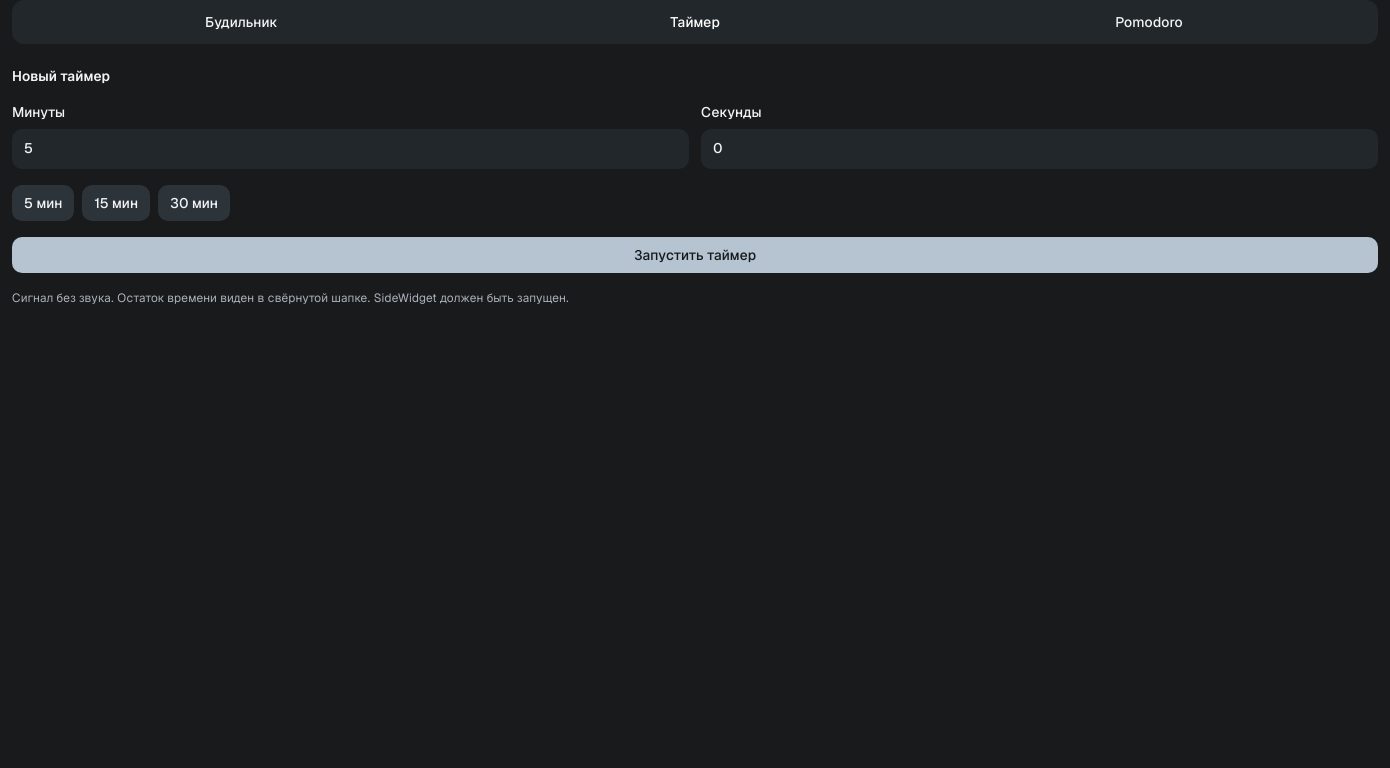
Test: retains the running collection when storage rejects a new timer
Click the button "Запустить таймер". click: (695, 255)
box: [12,237,1378,273]
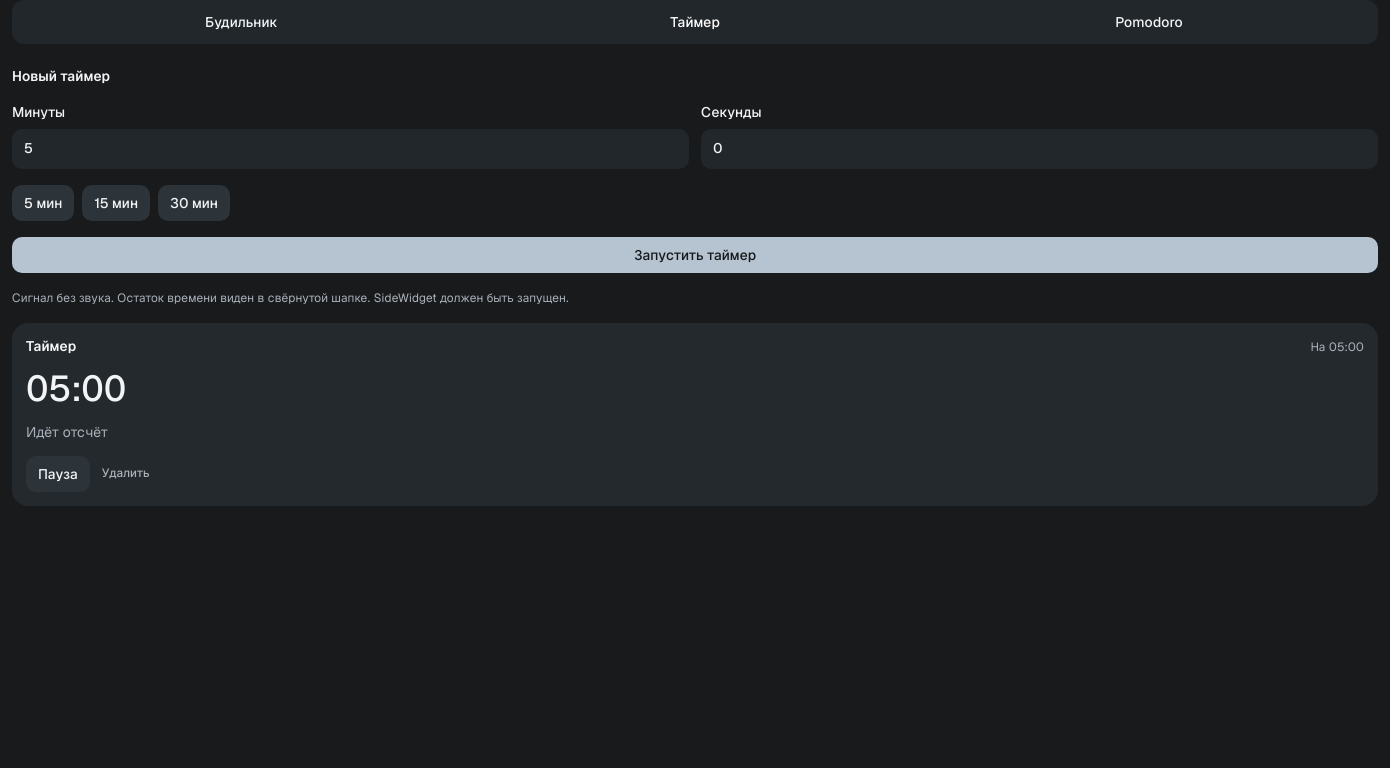
Click the button "Запустить таймер". click: (695, 255)
box: [12,237,1378,273]
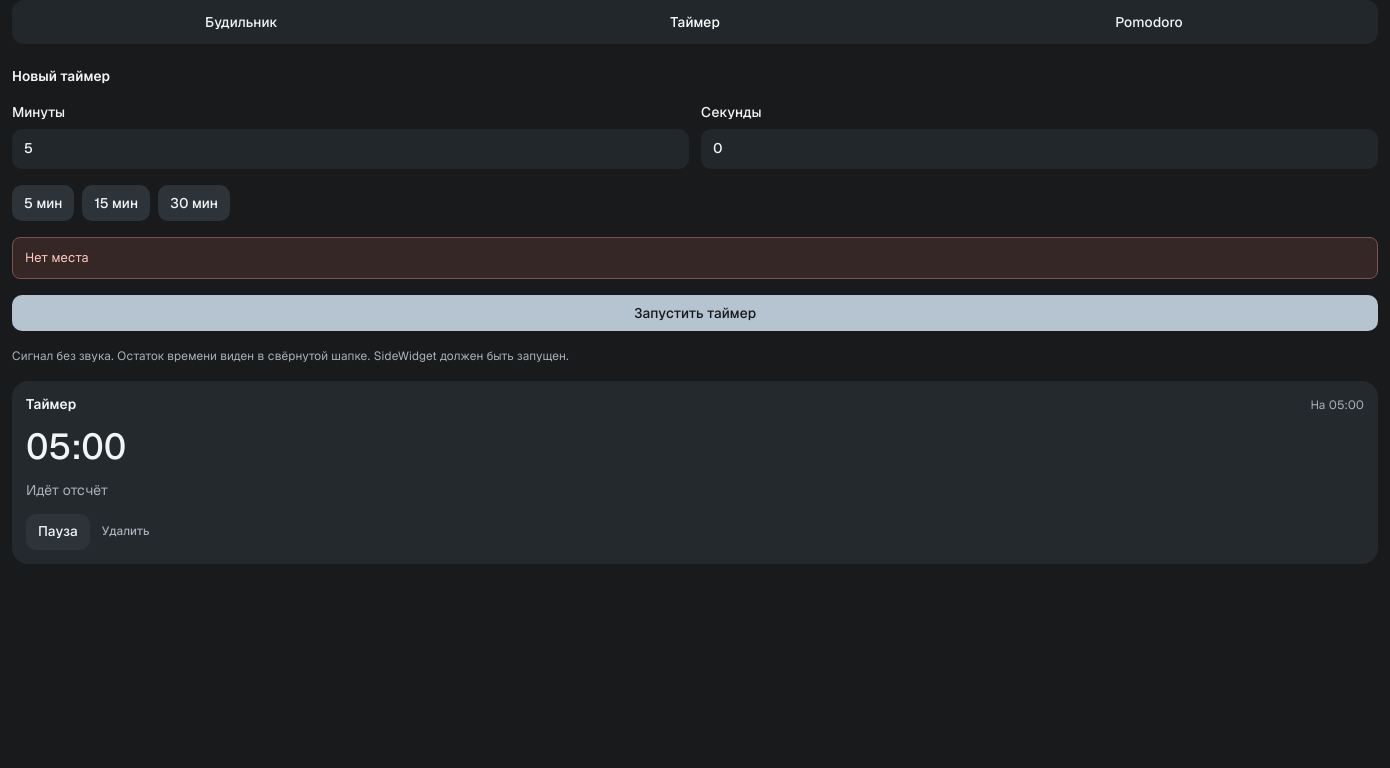
Now the number of buttons "Пауза" is 1, box [26,514,90,550]
Now the message "Нет места" is shown, box [12,237,1378,279]
